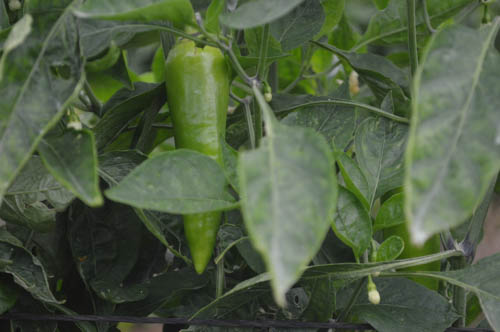ChiliPepper: (161, 42, 230, 278)
